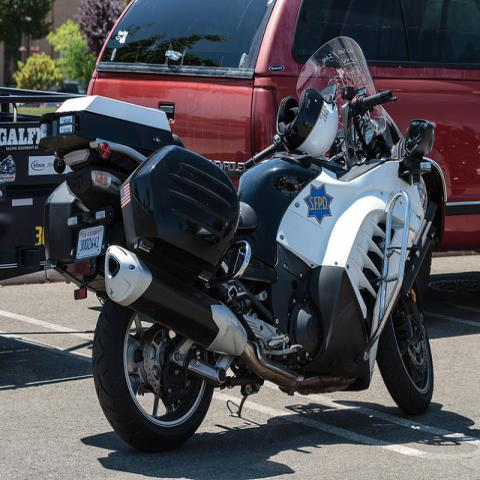car: (87, 0, 480, 256), (44, 102, 64, 108)
motorcycle: (92, 39, 448, 446)
